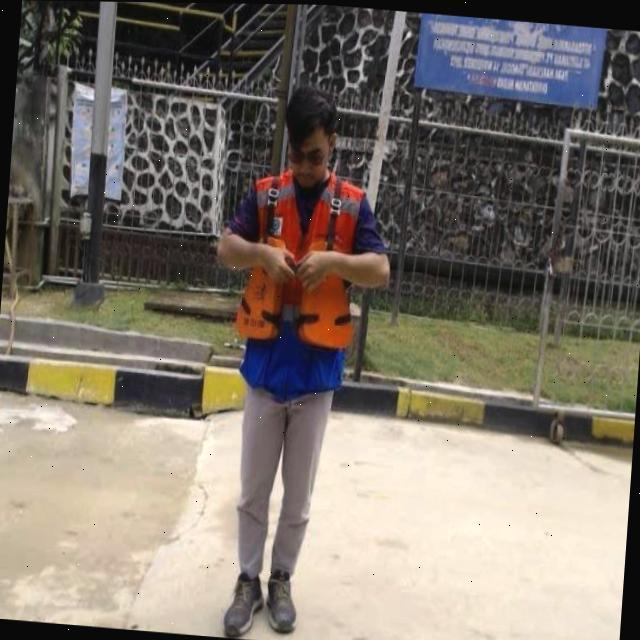goggles_on: (287, 148, 330, 167)
